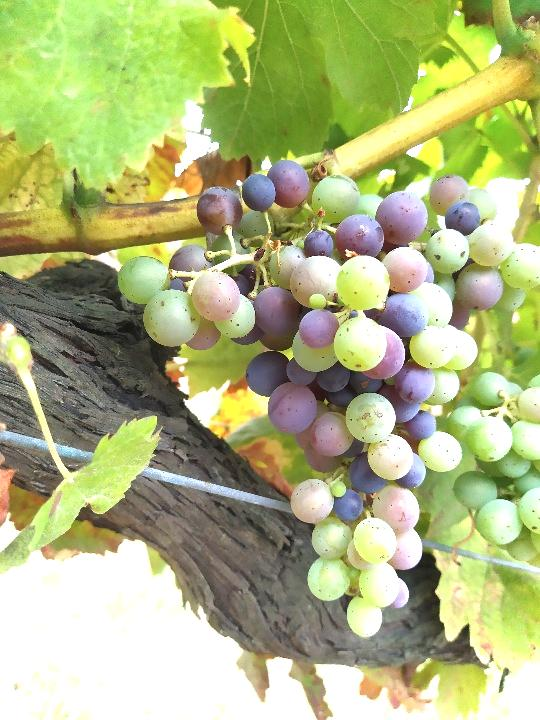grape: (115, 157, 540, 641)
